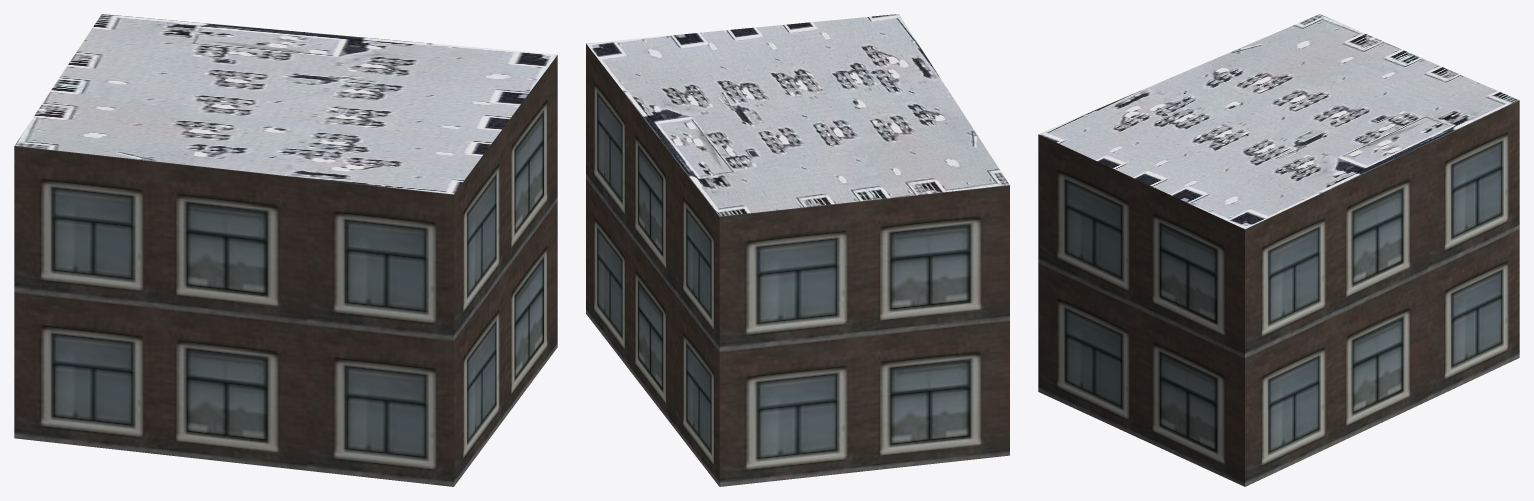
File: ResTex__4134.fbx
3 renders of one model, left to right at view 1: azimuth 30°, elevation 25°; view 2: azimuth 150°, elevation 25°; view 3: azimuth 270°, elevation 25°, orthographic. The views are drawn at different scales.
Parts seen in each view (by area): view 1: CityEngineMaterial_16_m, CityEngineMaterial_15_m; view 2: CityEngineMaterial_16_m, CityEngineMaterial_15_m; view 3: CityEngineMaterial_16_m, CityEngineMaterial_15_m.
Boxes of the visible parts, x1,y1,x2,y2 form: CityEngineMaterial_16_m: (14, 55, 557, 486); CityEngineMaterial_15_m: (14, 14, 557, 194); CityEngineMaterial_16_m: (586, 44, 1009, 486); CityEngineMaterial_15_m: (586, 14, 1009, 216); CityEngineMaterial_16_m: (1038, 100, 1519, 486); CityEngineMaterial_15_m: (1039, 14, 1518, 228).
Bounding box in the file's own units: 10.76 × 6 × 10.15.
Materials: 2 (2 with a texture image).
